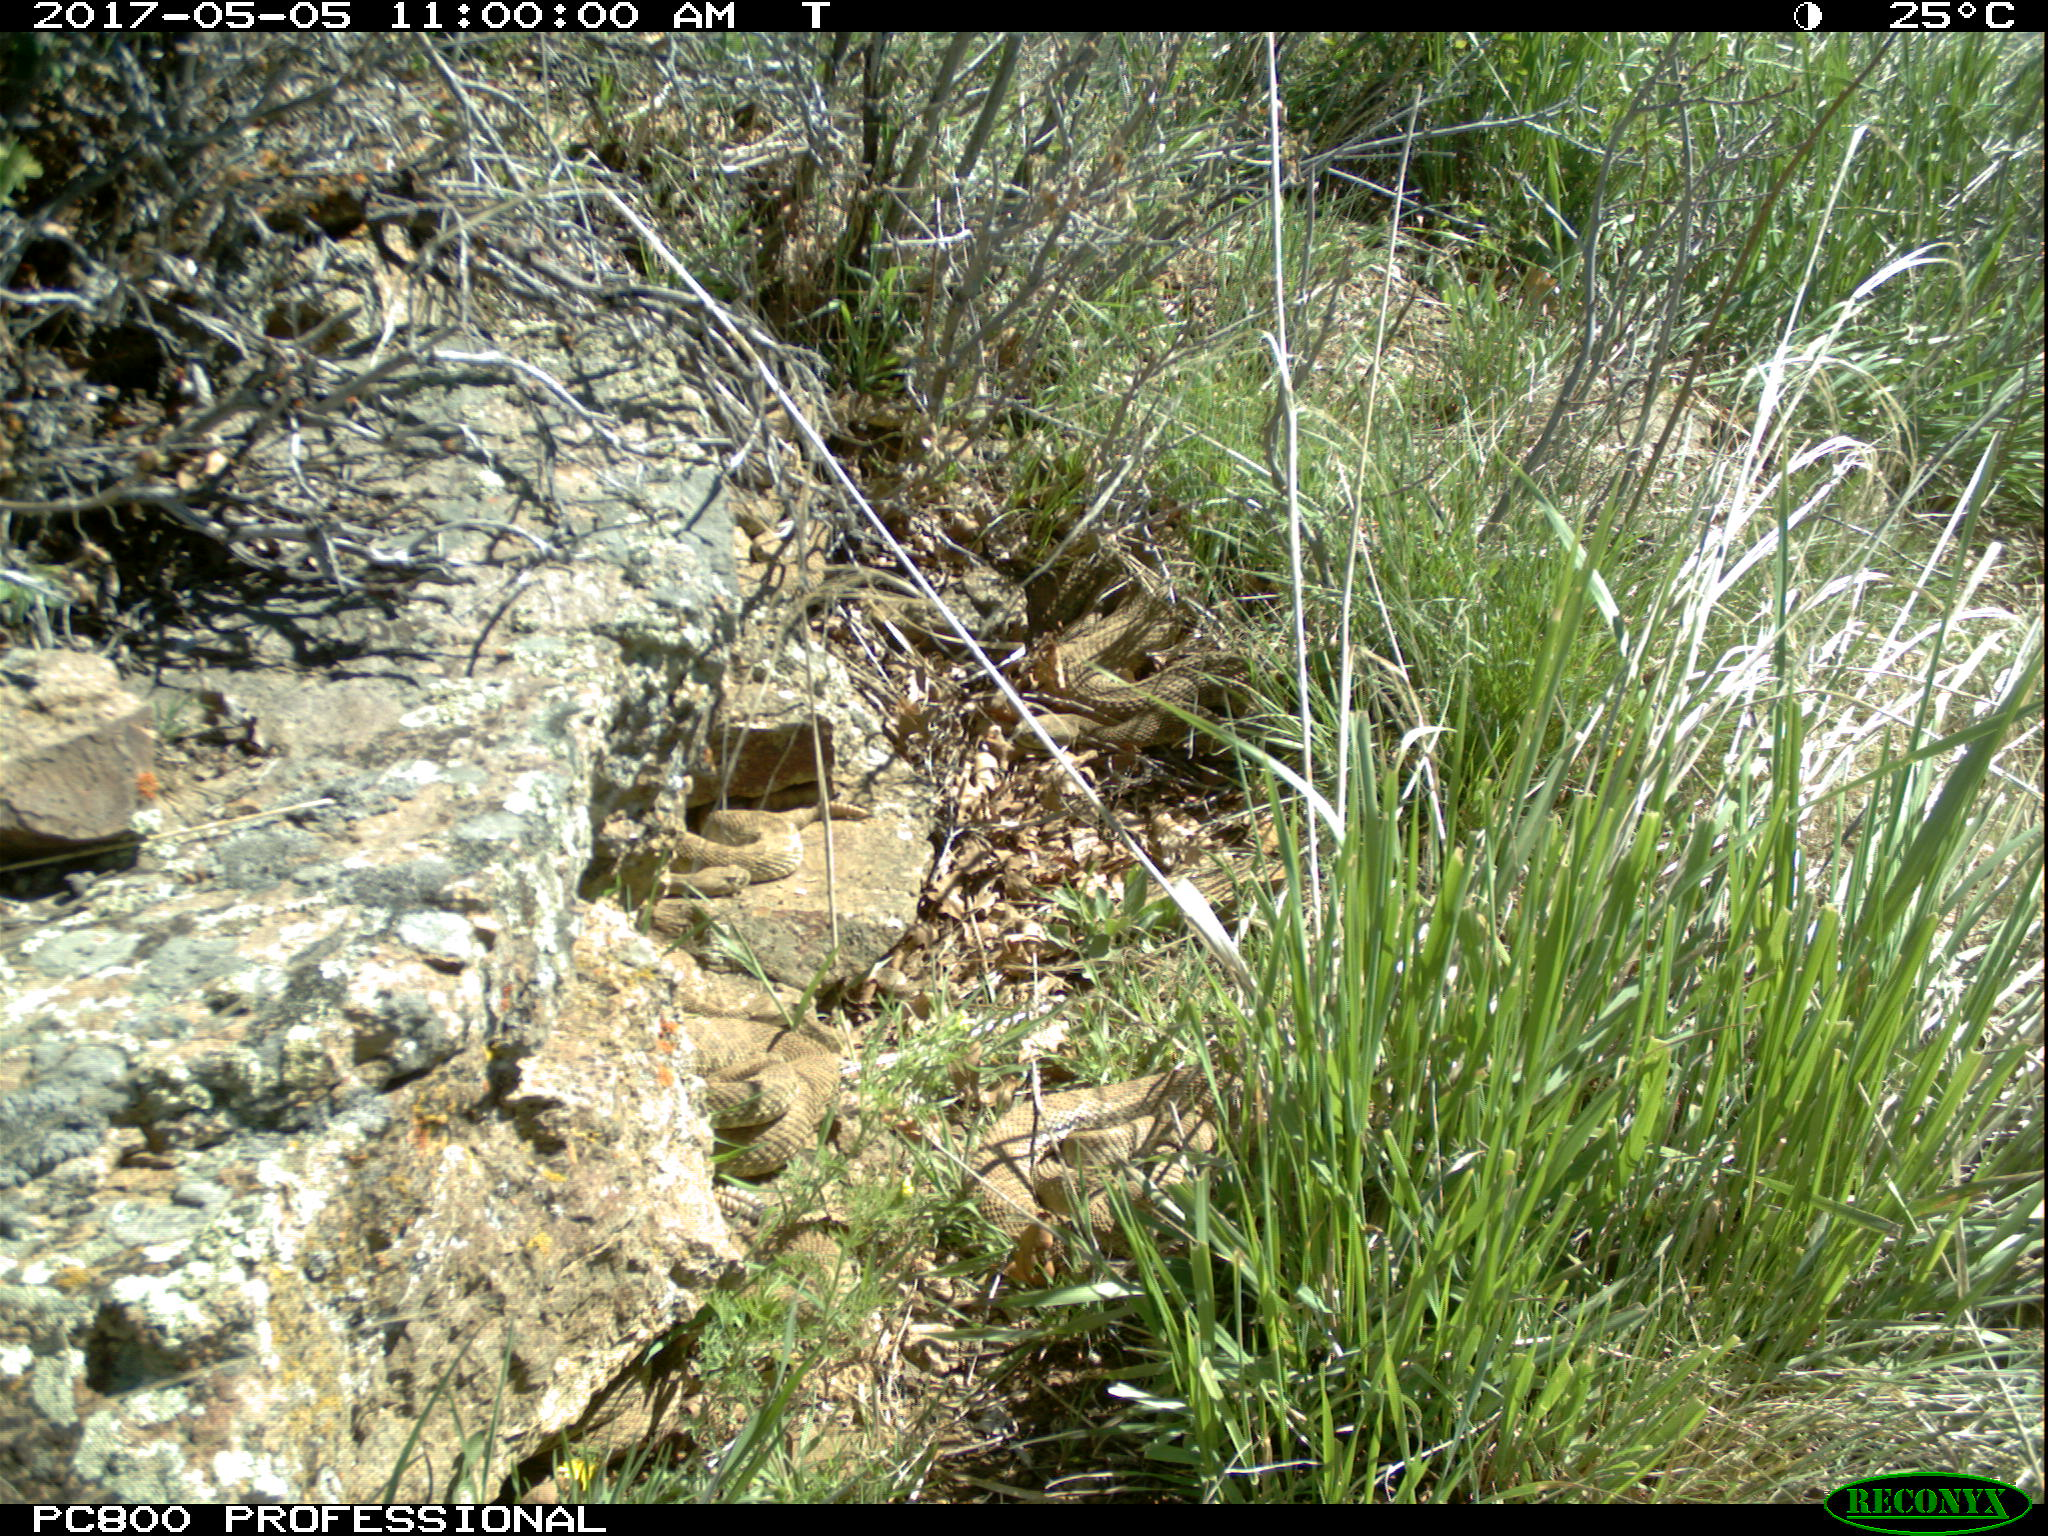snake: (968, 1054, 1274, 1262), (1048, 544, 1238, 758), (671, 1008, 855, 1179), (658, 800, 872, 913), (560, 1363, 722, 1463)
